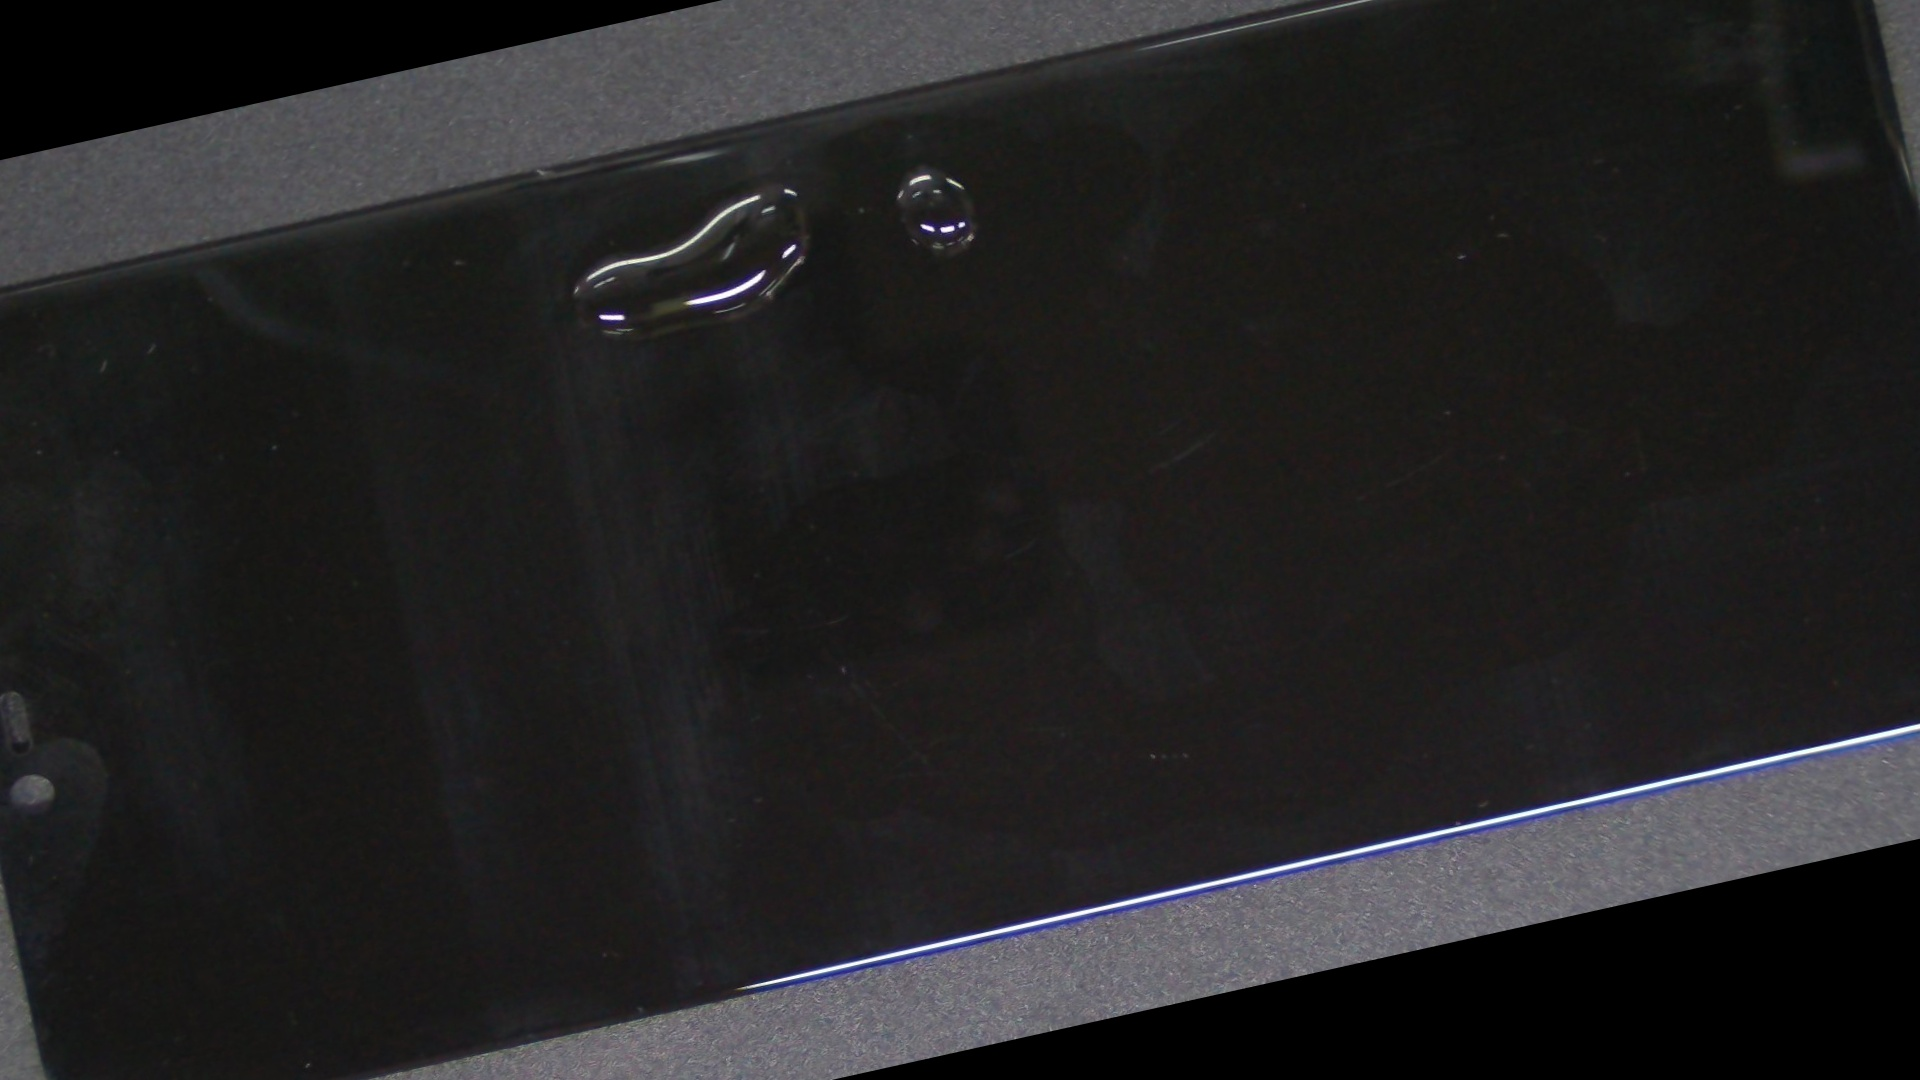oil: (335, 0, 1498, 389), (261, 0, 1276, 382)
